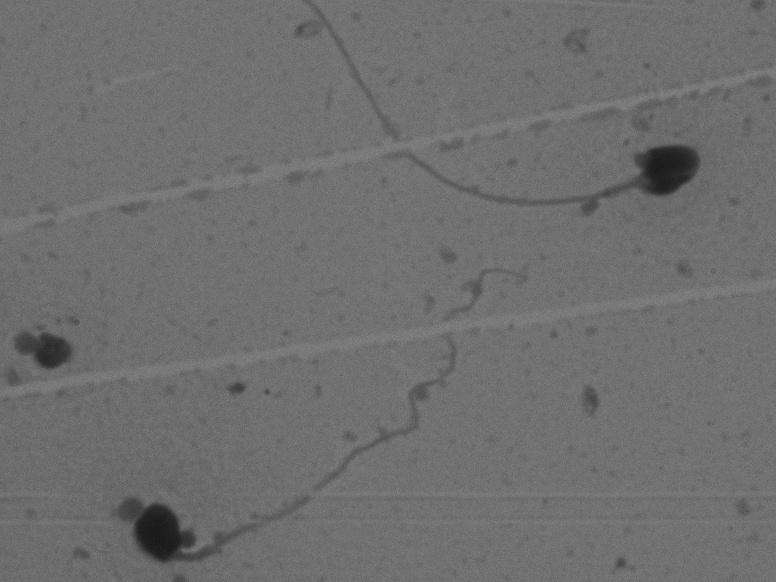Abnormal: (100, 267, 553, 571), (272, 17, 736, 259)
